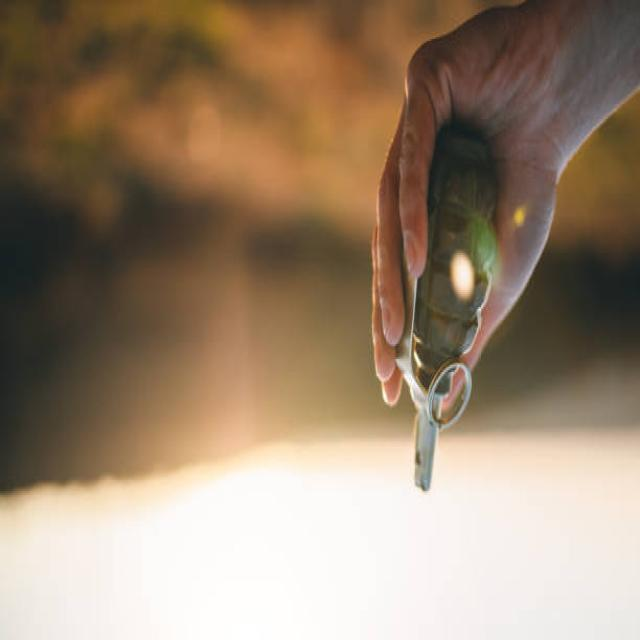grenade: (396, 126, 504, 496)
